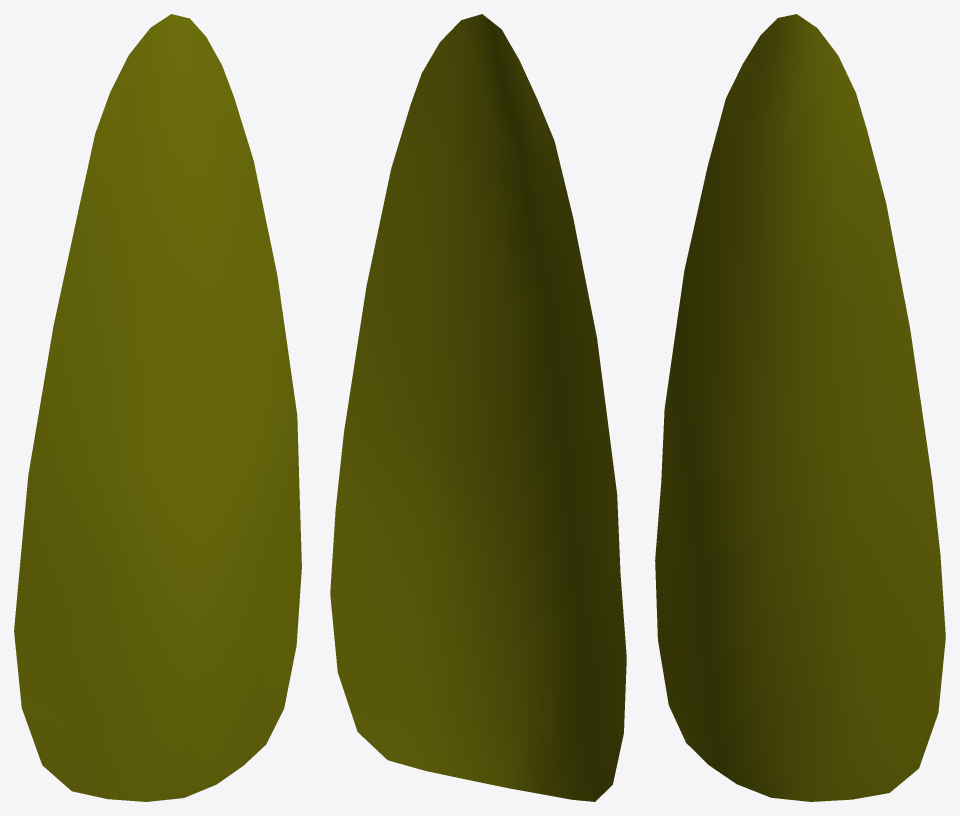
Rendered from MD_nail_point_HandR.Thumb.fbx.
3 views of the same model, side by side, from view 1: azimuth 30°, elevation 25°; view 2: azimuth 150°, elevation 25°; view 3: azimuth 330°, elevation 25° (orthographic). The views are drawn at different scales.
Parts seen in each view (by area): view 1: MD_nail_point_HandR.Thumb; view 2: MD_nail_point_HandR.Thumb; view 3: MD_nail_point_HandR.Thumb.
Boxes of the visible parts, x1,y1,x2,y2 form: MD_nail_point_HandR.Thumb: (14,14,301,801); MD_nail_point_HandR.Thumb: (330,14,626,801); MD_nail_point_HandR.Thumb: (655,14,945,801).
Size of the model in its own units: 0.9338 by 2.37 by 0.1994.
